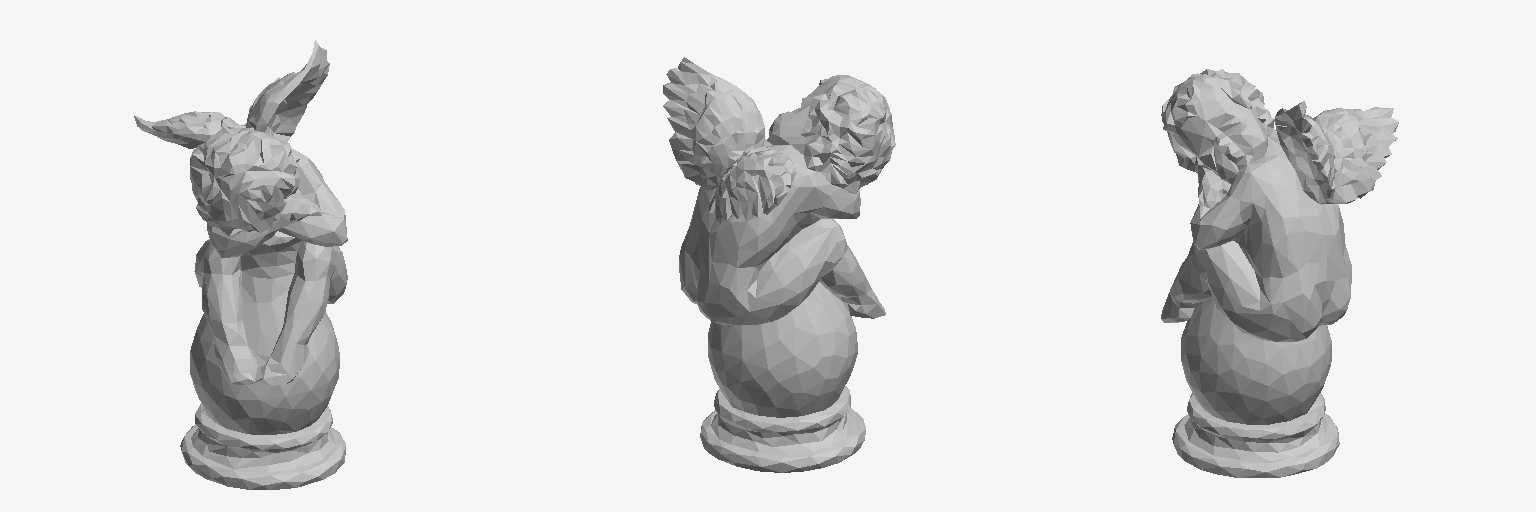
The model's file is statue.obj.
3 renders of one model, left to right at view 1: azimuth 30°, elevation 25°; view 2: azimuth 150°, elevation 25°; view 3: azimuth 270°, elevation 25°, orthographic.
Parts seen in each view (by area): view 1: FlowerPlant_02_-_Default_0; view 2: FlowerPlant_02_-_Default_0; view 3: FlowerPlant_02_-_Default_0.
Boxes of the visible parts, x1=… form: FlowerPlant_02_-_Default_0: x1=134, y1=40, x2=347, y2=489; FlowerPlant_02_-_Default_0: x1=663, y1=57, x2=895, y2=472; FlowerPlant_02_-_Default_0: x1=1161, y1=69, x2=1398, y2=477.
Bounding box in the file's own units: 0.6982 × 1.42 × 0.8078.